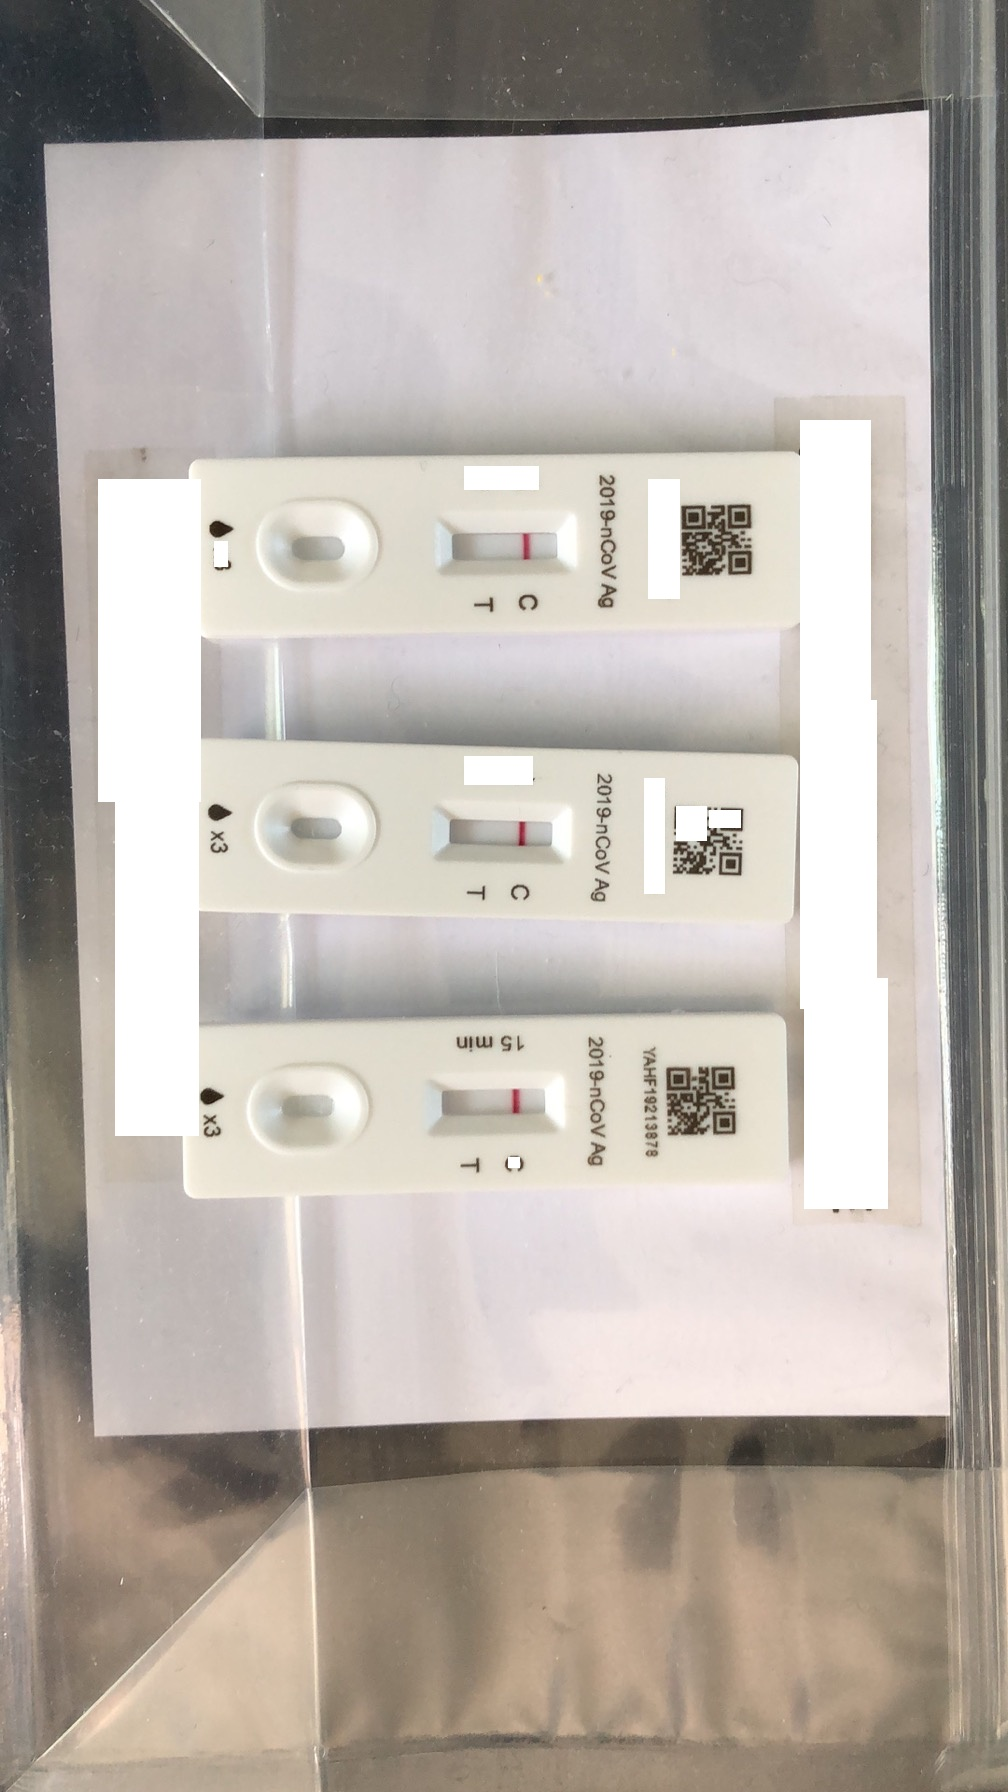negative: (432, 510, 580, 574), (430, 798, 574, 860), (422, 1073, 567, 1134)
